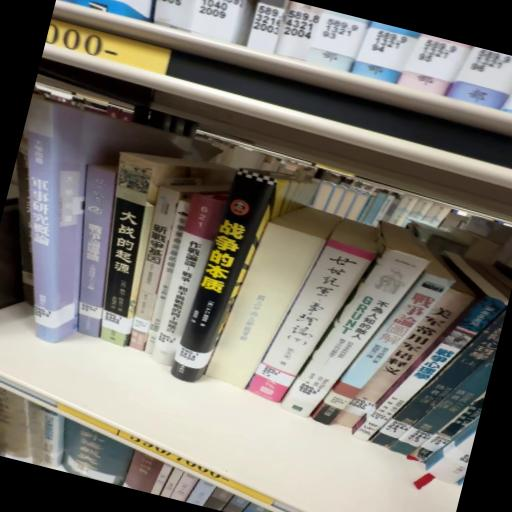backward: (207, 208, 342, 390)
book: (202, 196, 344, 409), (173, 172, 281, 395), (49, 161, 142, 342), (153, 189, 230, 355), (123, 186, 192, 358), (81, 196, 160, 346)
